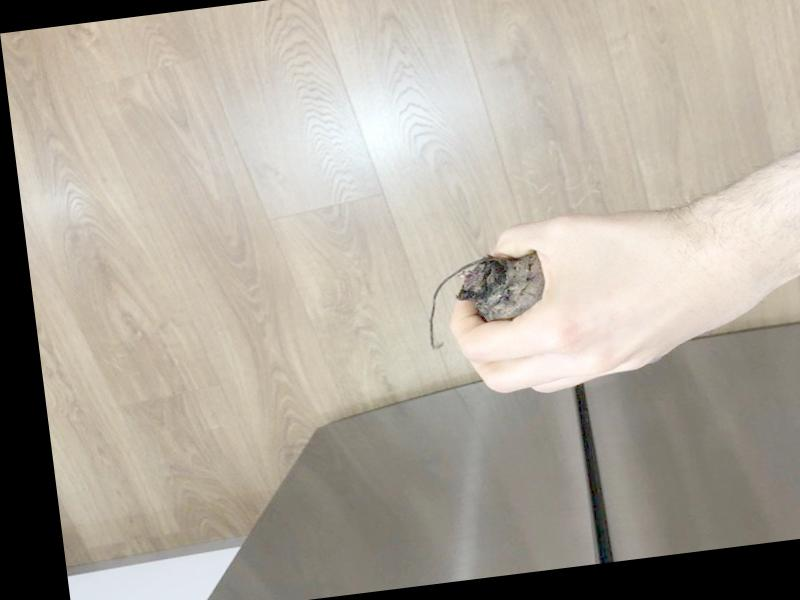Beet: (417, 249, 551, 352)
